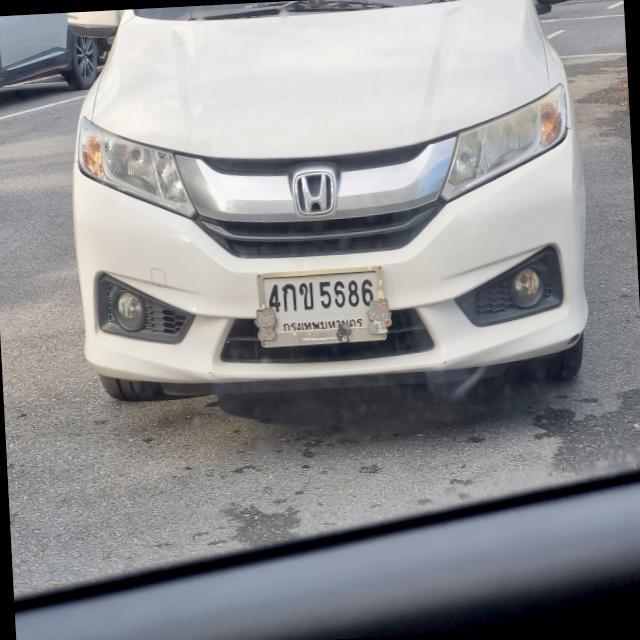license_plate: (254, 262, 393, 356)
